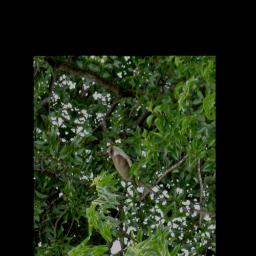Cuckoo: (96, 138, 175, 201)
